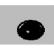correct: (15, 18, 46, 42)
